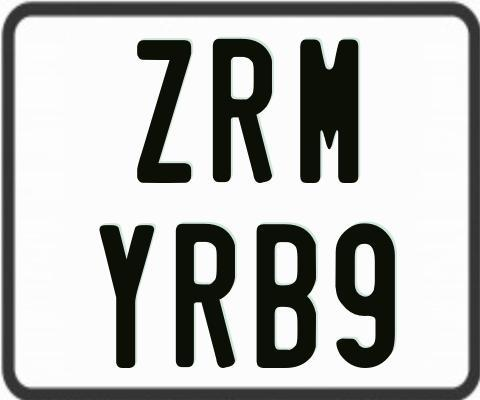9: (333, 223, 399, 373)
B: (256, 223, 321, 372)
M: (299, 37, 358, 186)
R: (175, 223, 238, 373), (210, 36, 269, 183)
Y: (100, 222, 157, 366)
Z: (137, 37, 193, 181)
